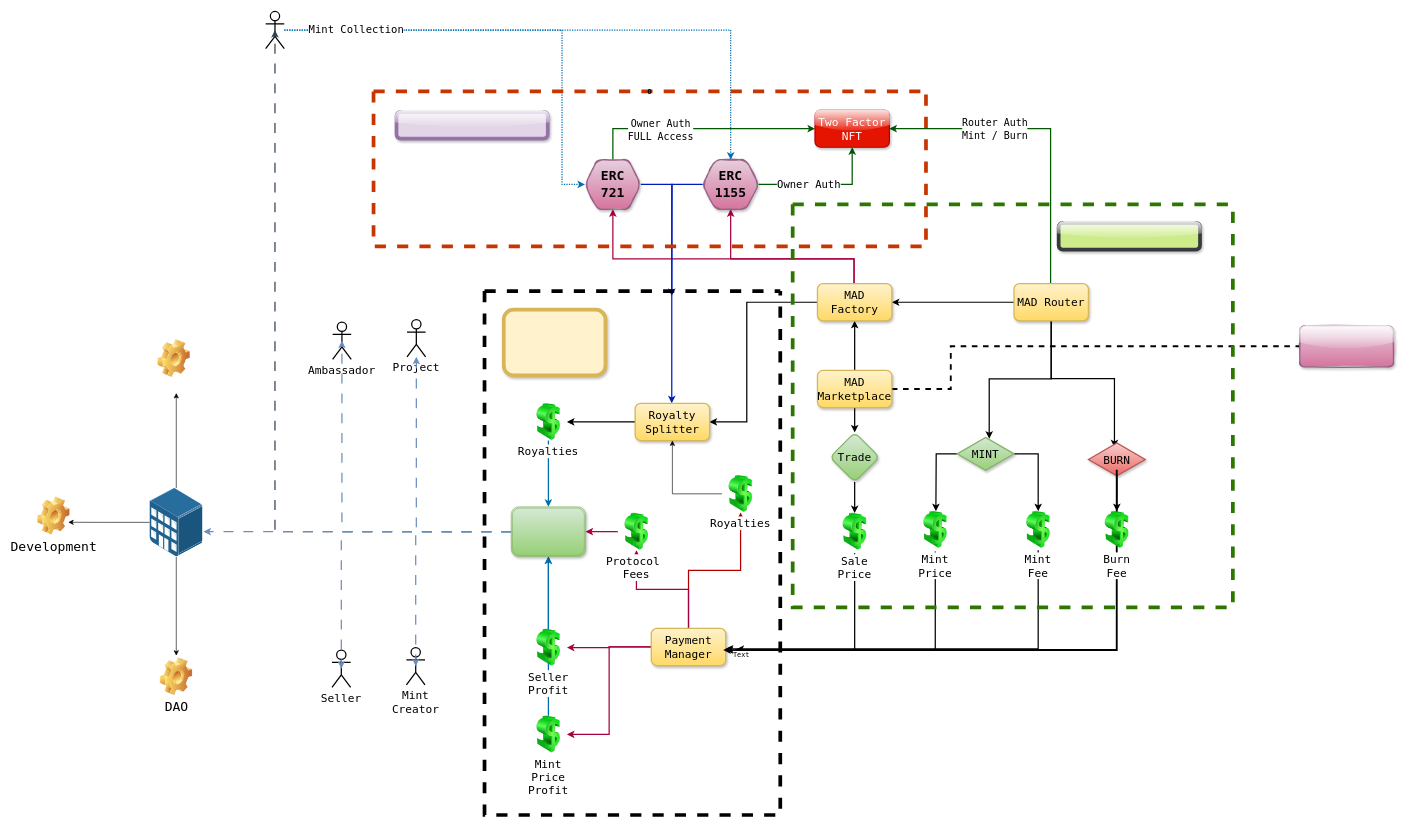
Image size: 1409x827. Some labels were removed from this diagram. Here are the shapes that lost their labels. From the top down, the centre of each, then its label:
the point at 275,30: Creator
the point at 472,125: ERC Standalone
the point at 1129,236: MAD Contracts
the point at 173,358: Community
the point at 555,343: Payments And Royalties
the point at 1346,346: SEAPORT
the point at 175,522: MAD NFTs
the point at 548,532: Withdraw
